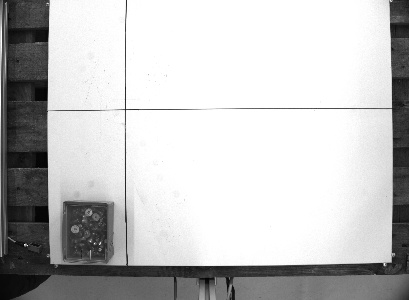klts: (59, 196, 116, 267)
